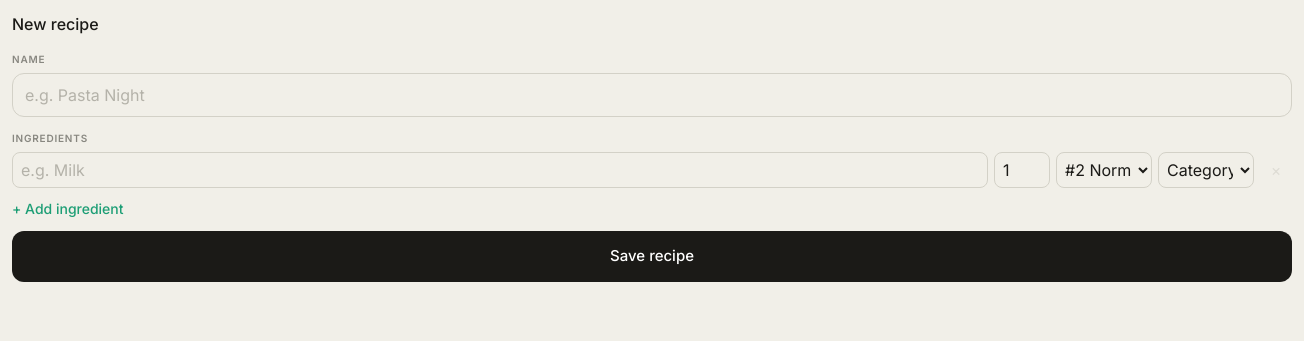
Test: RecipeForm › removes ingredient row when clicking ×
Click the button "+ Add ingredient" at (68, 209), box [12, 199, 124, 219]
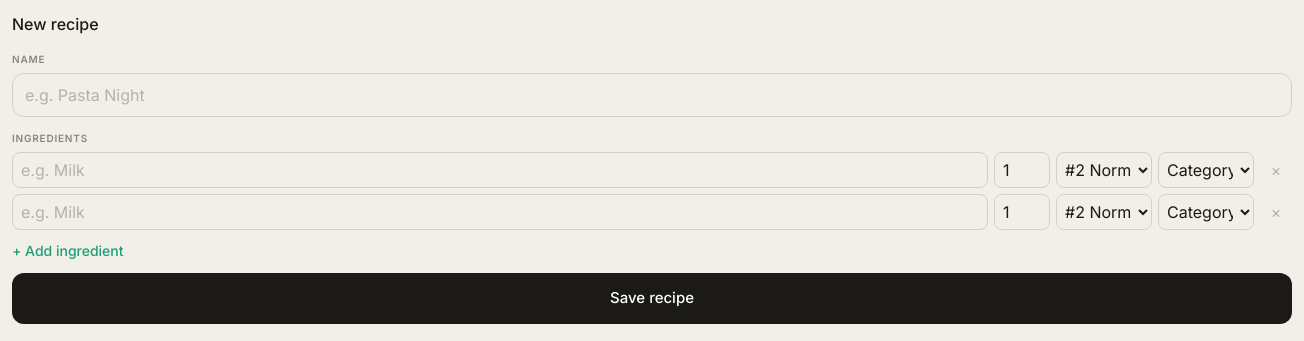
Click the 1st button "×" at (1276, 170), box [1260, 152, 1292, 188]
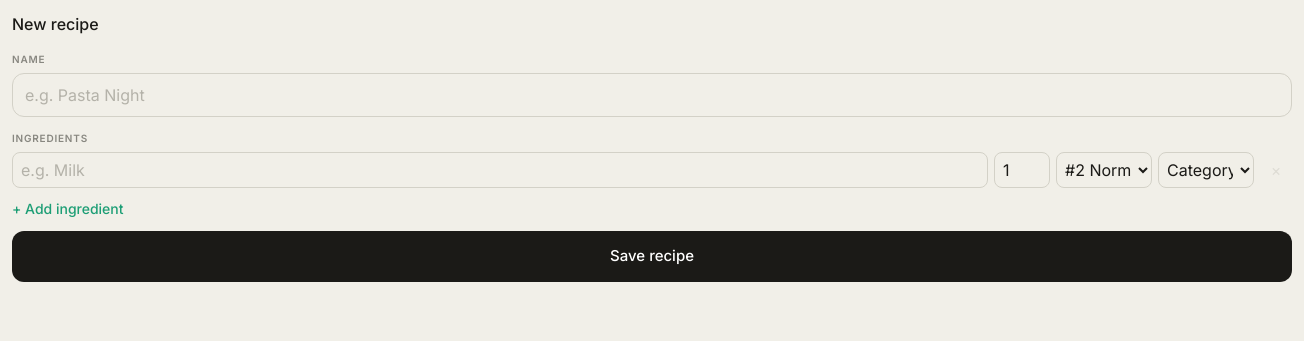
Now the number of fields with placeholder "e.g. Milk" is 1, box [12, 152, 988, 188]
